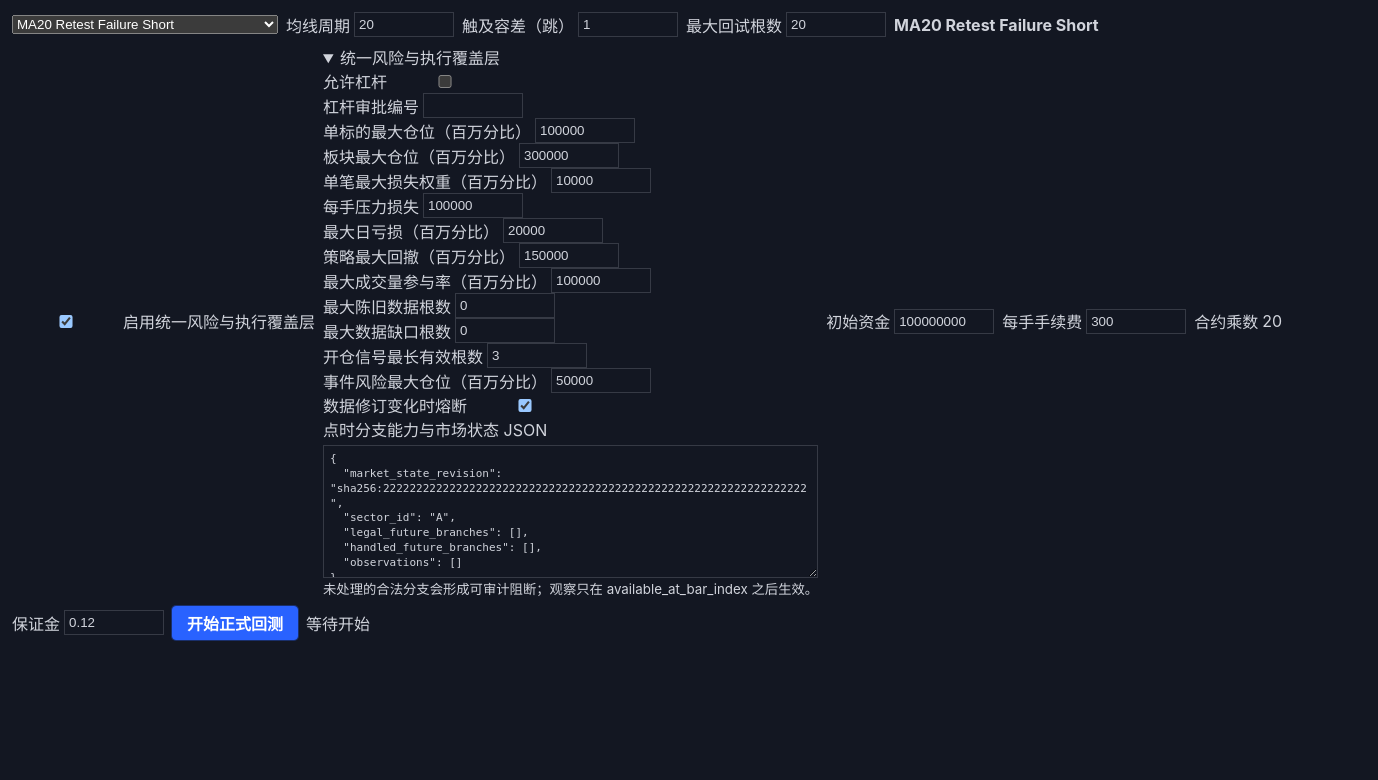
BacktestPanel › continues polling a formal run after a transient fetch failure
What coordinates should you click on to do the following:
click the button with class "backtest-run-button"
I would click on:
 (235, 623)
Its box is top-left (172, 606), bottom-right (298, 640).
(page scrolled)
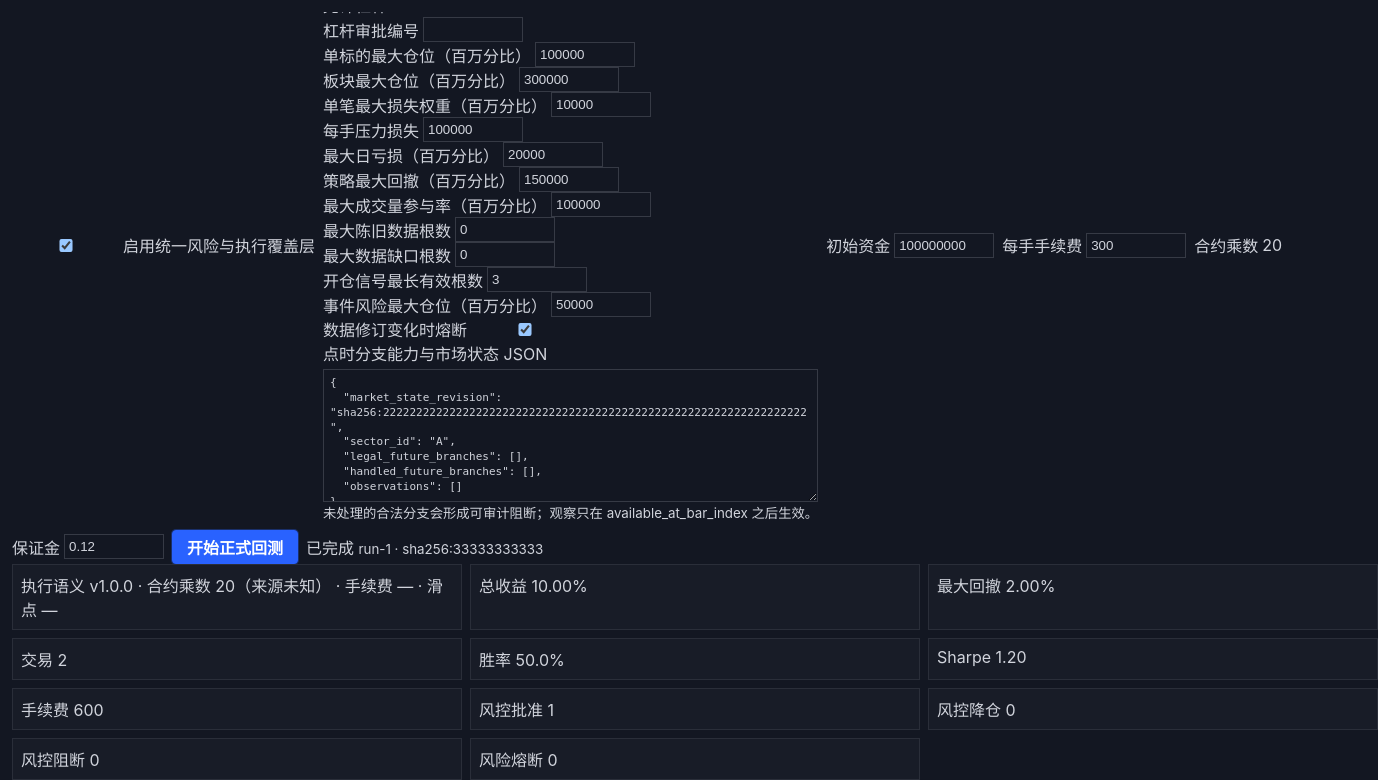
Expected: the element with class "summary-grid" shows "10.00%", top-left (479, 576), bottom-right (588, 596)
